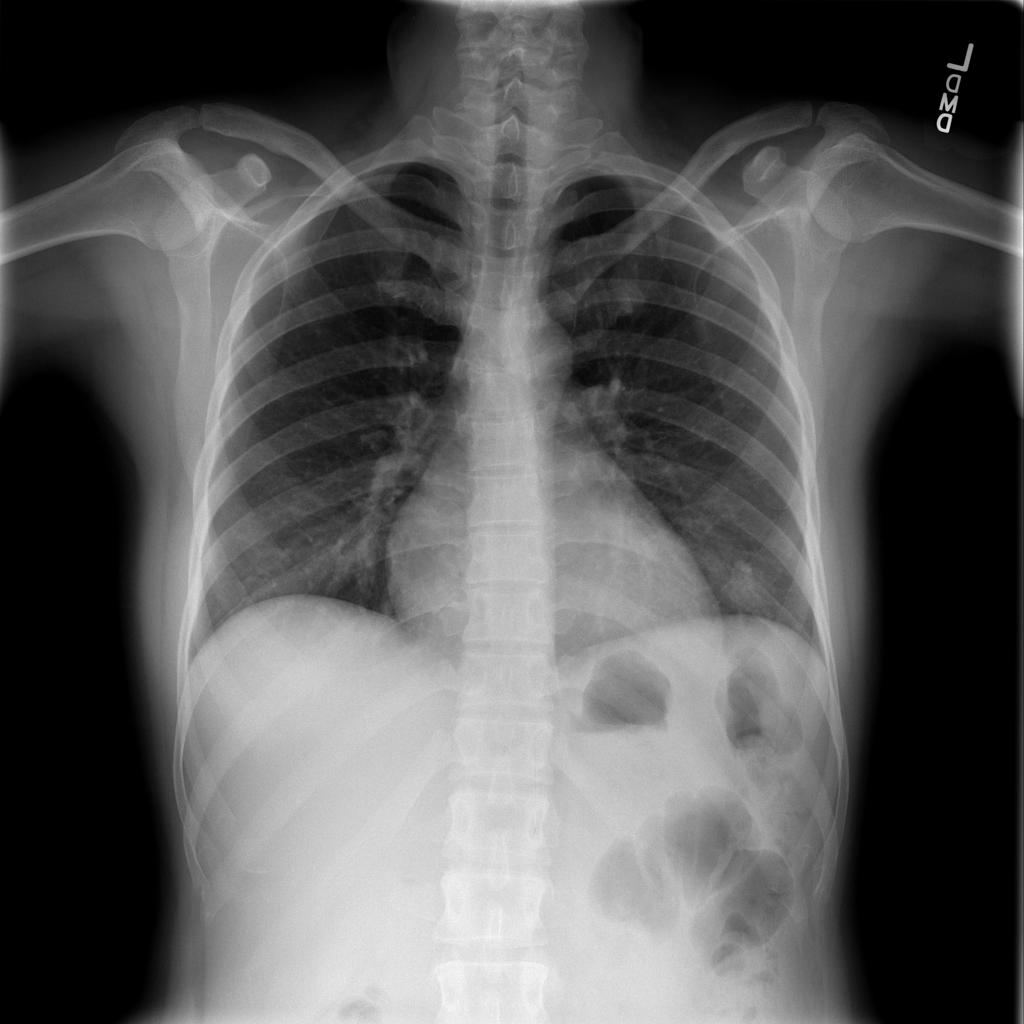nodule: (709, 550, 785, 624)
